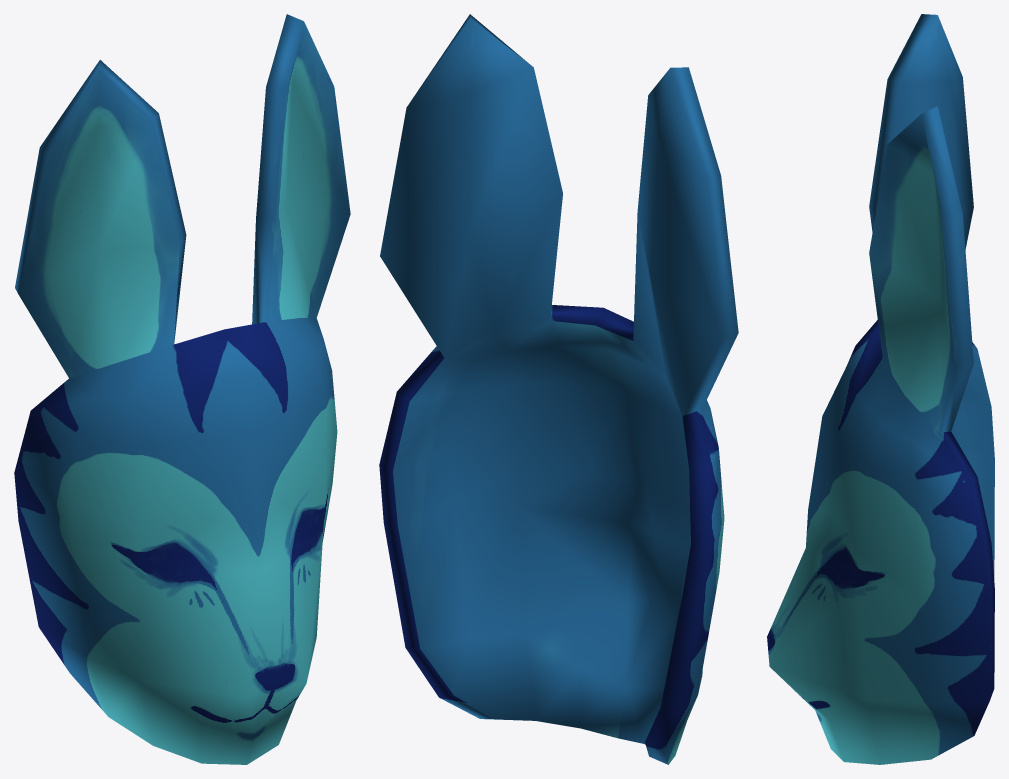
File: Bunny mask.fbx
The picture shows the model from 3 angles, left to right: view 1: azimuth 30°, elevation 25°; view 2: azimuth 150°, elevation 25°; view 3: azimuth 270°, elevation 25°; orthographic projection. The views are drawn at different scales.
Parts seen in each view (by area): view 1: Cylinder; view 2: Cylinder; view 3: Cylinder.
Boxes of the visible parts, box(x1,y1,x2,y2) form: Cylinder: box(14, 14, 350, 764); Cylinder: box(379, 14, 738, 764); Cylinder: box(767, 14, 994, 764).
Bounding box in the file's own units: 19.32 × 38.33 × 11.5.
